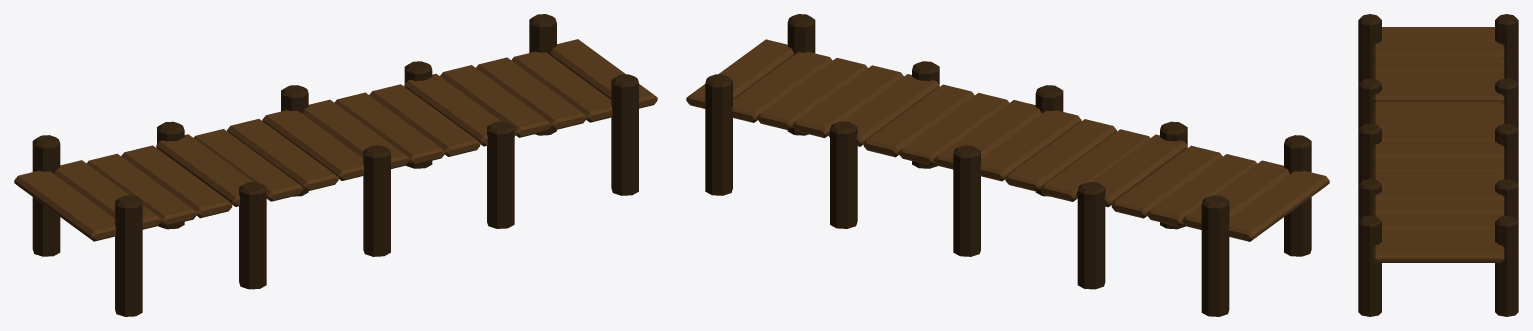
File: pier.fbx
3 views of the same model, side by side, from view 1: azimuth 30°, elevation 25°; view 2: azimuth 150°, elevation 25°; view 3: azimuth 270°, elevation 25° (orthographic). The views are drawn at different scales.
Parts seen in each view (by area): view 1: Pier; view 2: Pier; view 3: Pier.
Part boxes in pixels (bbox=[...]): Pier: bbox=[14, 14, 657, 316]; Pier: bbox=[686, 14, 1329, 316]; Pier: bbox=[1358, 14, 1518, 316].
Bounding box in the file's own units: 1692 × 326 × 499.
